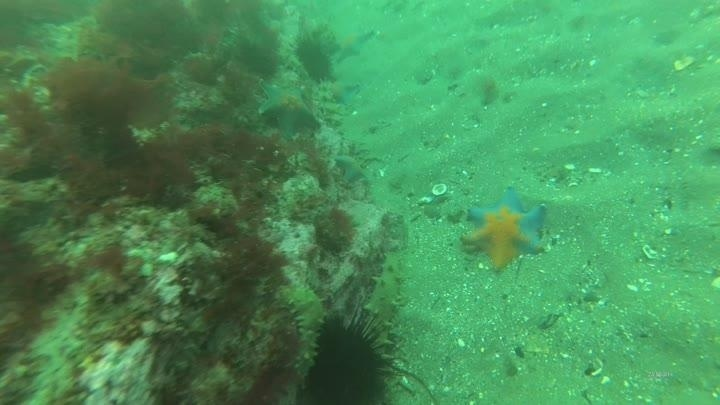echinus: (302, 311, 398, 405), (292, 34, 336, 84), (236, 39, 280, 79)
holothurian: (276, 280, 329, 378), (360, 250, 408, 353), (310, 78, 344, 132)
starfish: (460, 188, 550, 273), (256, 79, 320, 140), (329, 23, 376, 63), (331, 150, 371, 185), (325, 77, 362, 107)
